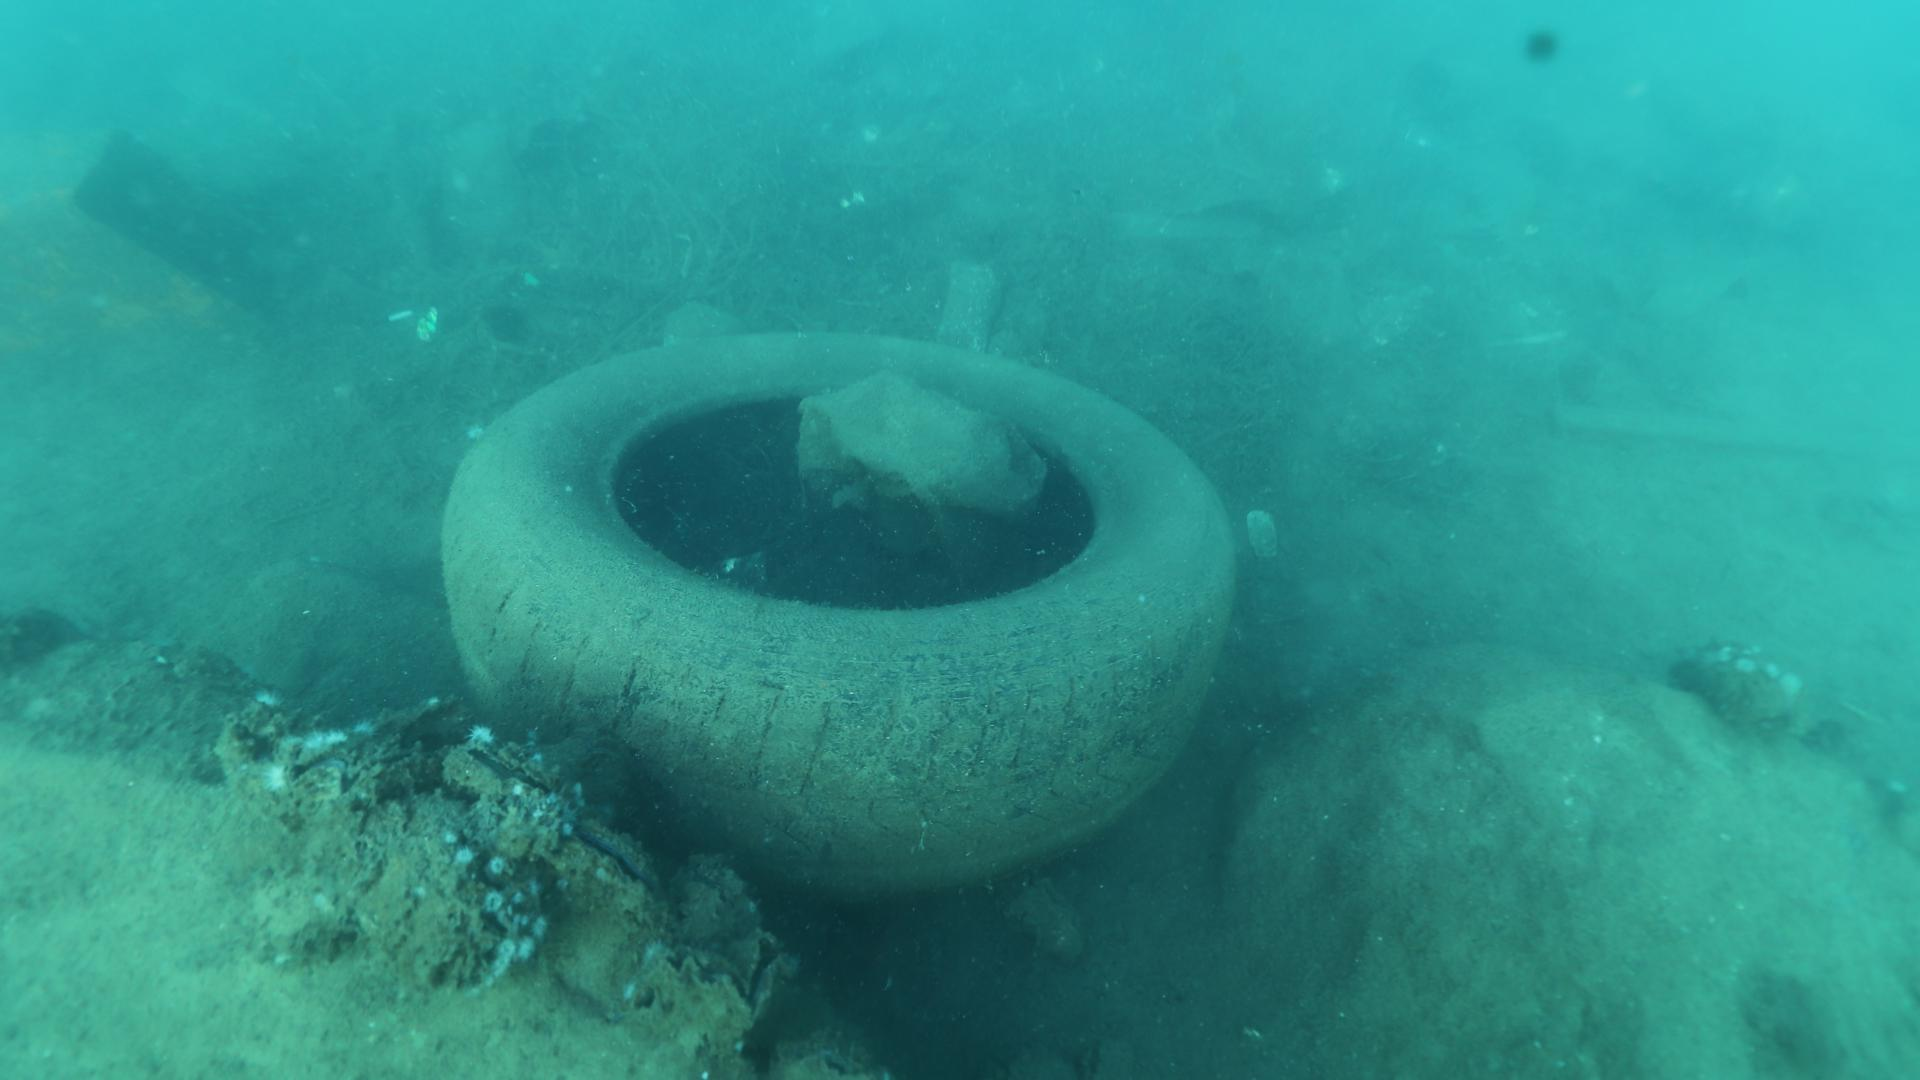tire: (444, 323, 1238, 891)
